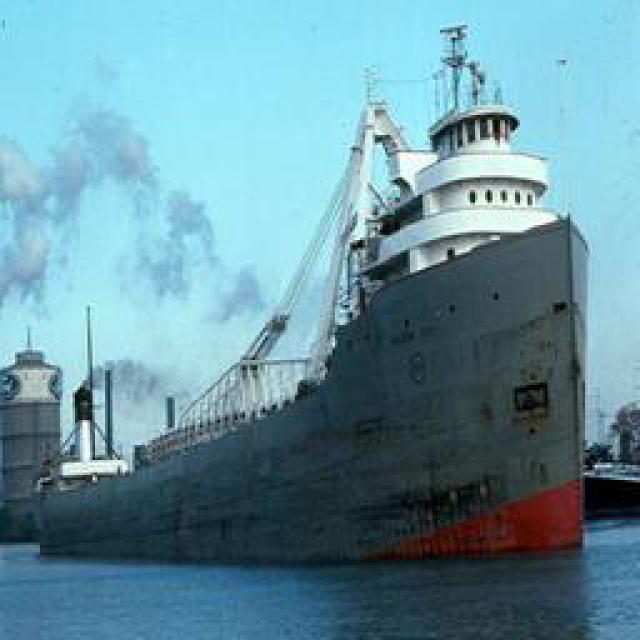Ship: (31, 22, 602, 564)
